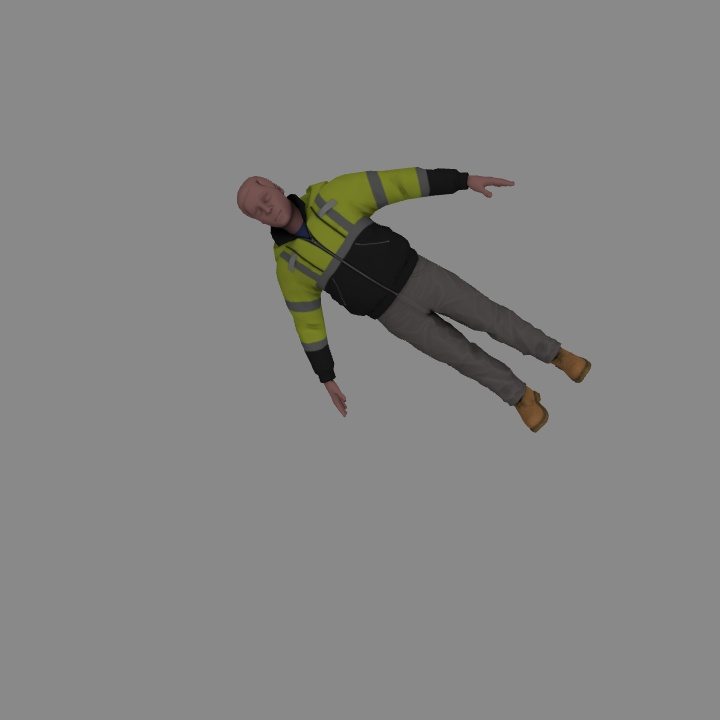victim: (238, 171, 589, 436)
